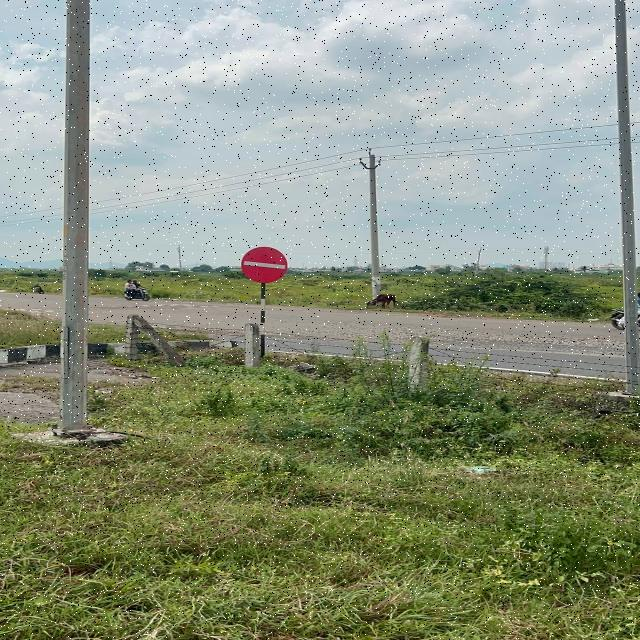No_entry: (223, 240, 303, 288)
